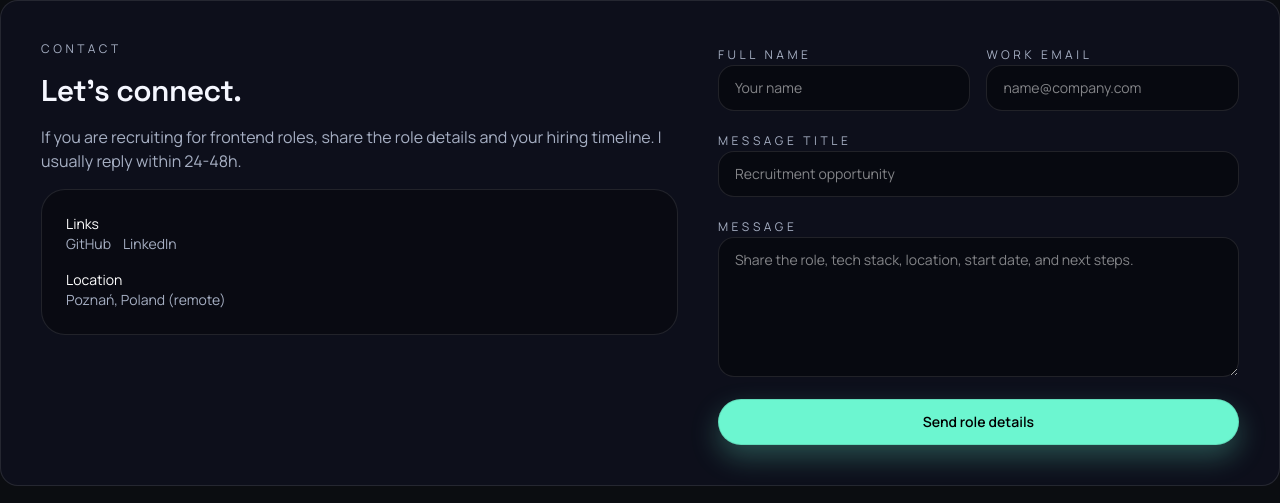
Test: Contact › form submission › disables submit button while submitting
Type "Jane Smith" into the field with placeholder "Your name" at x=844, y=88, box [718,65,970,111]
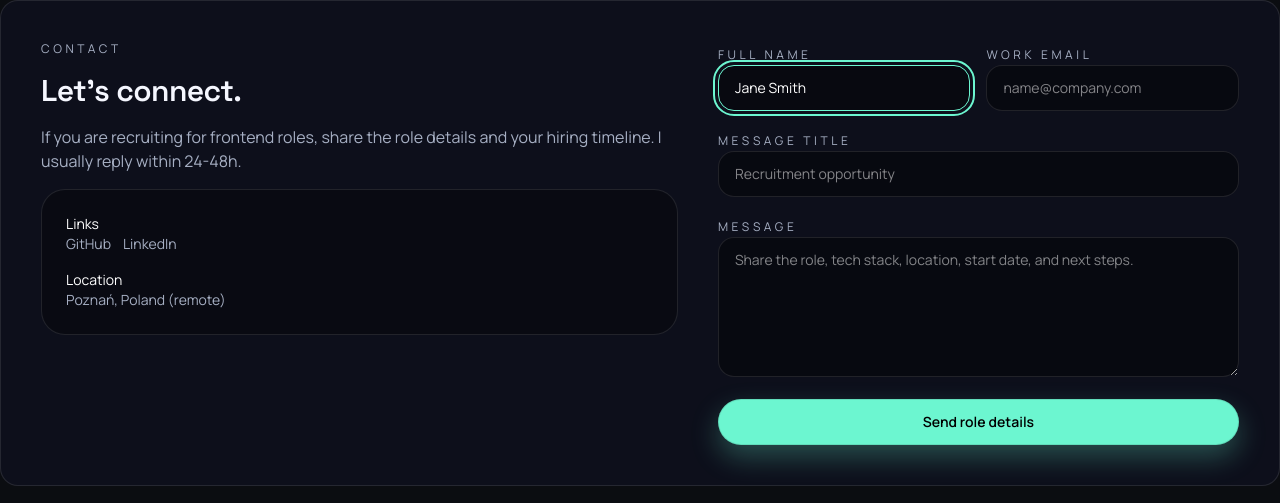
Type "jane@company.com" into the field with placeholder "name@company.com" at x=1113, y=88, box [986,65,1239,111]
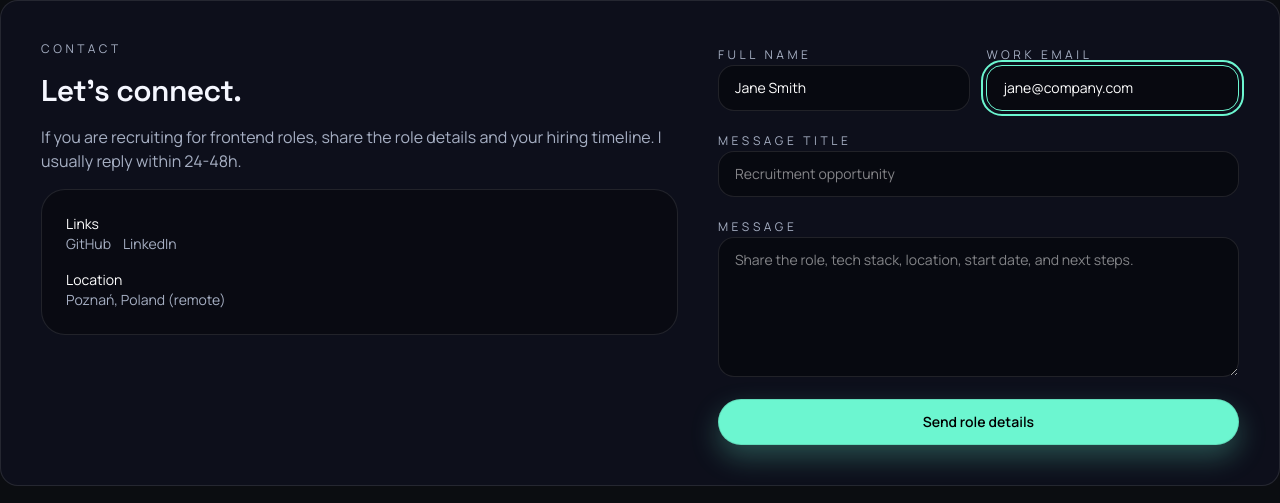
Type "Hello, I would like to discuss a frontend opportunity with you." into the text box with placeholder "Share the role" at x=978, y=307, box [718,237,1239,377]
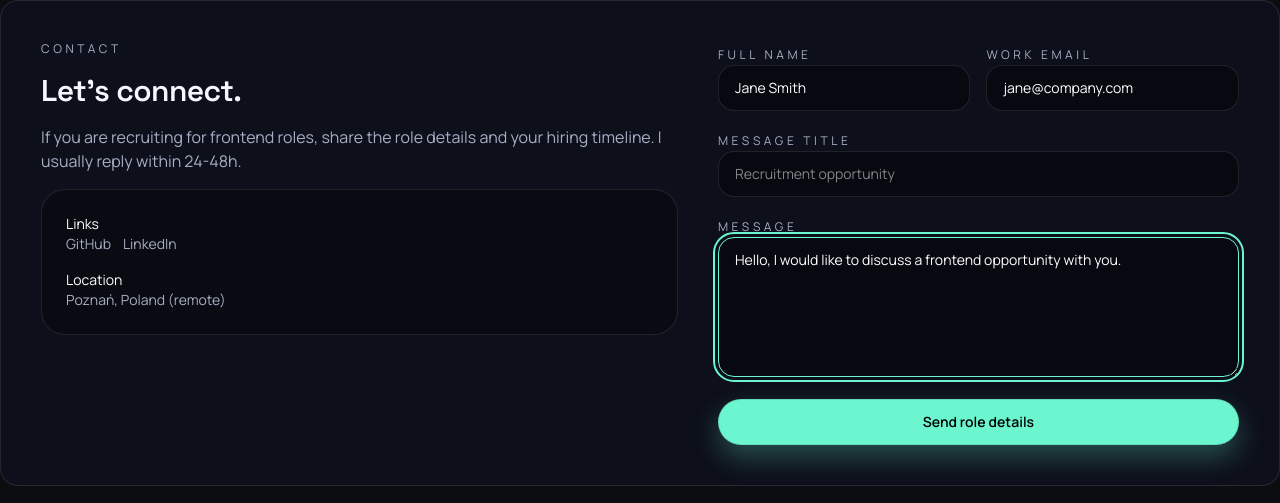
Click the button "Send role details" at x=978, y=422, box [718,399,1239,445]
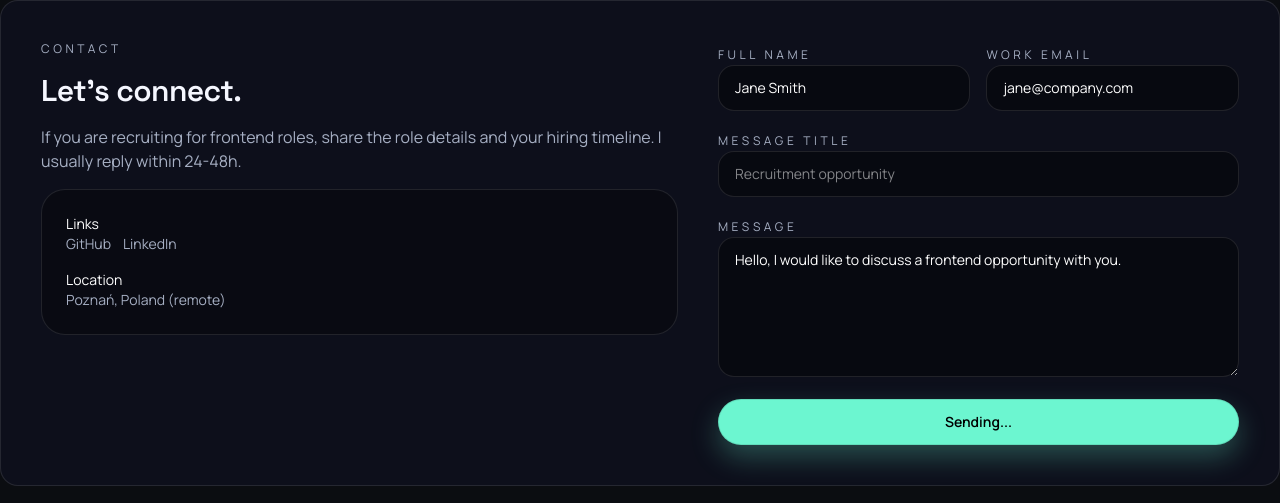
Expected: the button "Sending..." is disabled, [718,399,1239,445]
